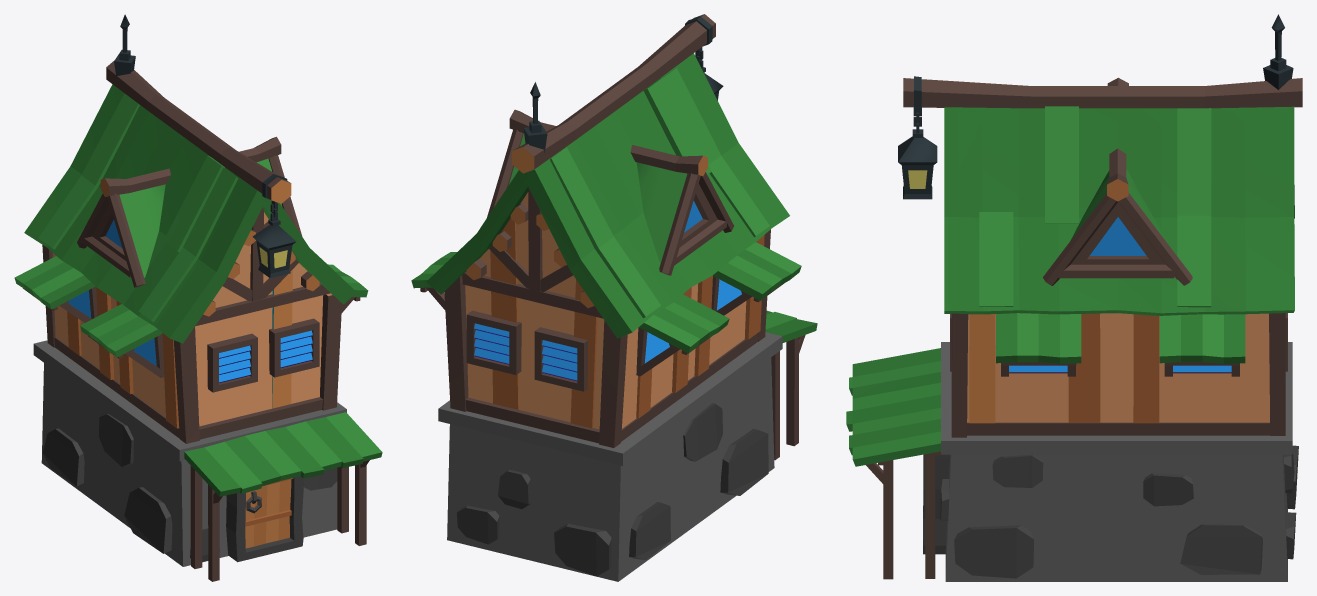
Rendered from House_2-4.fbx.
3 renders of one model, left to right at view 1: azimuth 30°, elevation 25°; view 2: azimuth 150°, elevation 25°; view 3: azimuth 270°, elevation 25°, orthographic. The views are drawn at different scales.
Parts seen in each view (by area): view 1: Village_BG_Bd_House04_A.002; view 2: Village_BG_Bd_House04_A.002; view 3: Village_BG_Bd_House04_A.002.
Part boxes in pixels (bbox=[...]): Village_BG_Bd_House04_A.002: bbox=[14, 14, 382, 581]; Village_BG_Bd_House04_A.002: bbox=[411, 14, 817, 581]; Village_BG_Bd_House04_A.002: bbox=[846, 14, 1302, 581].
Size of the model in its own units: 552 by 903 by 713.
